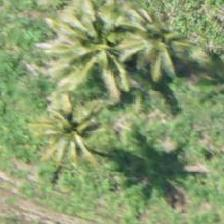coconut_tree: (19, 84, 109, 174), (63, 0, 153, 85), (116, 0, 206, 82)
